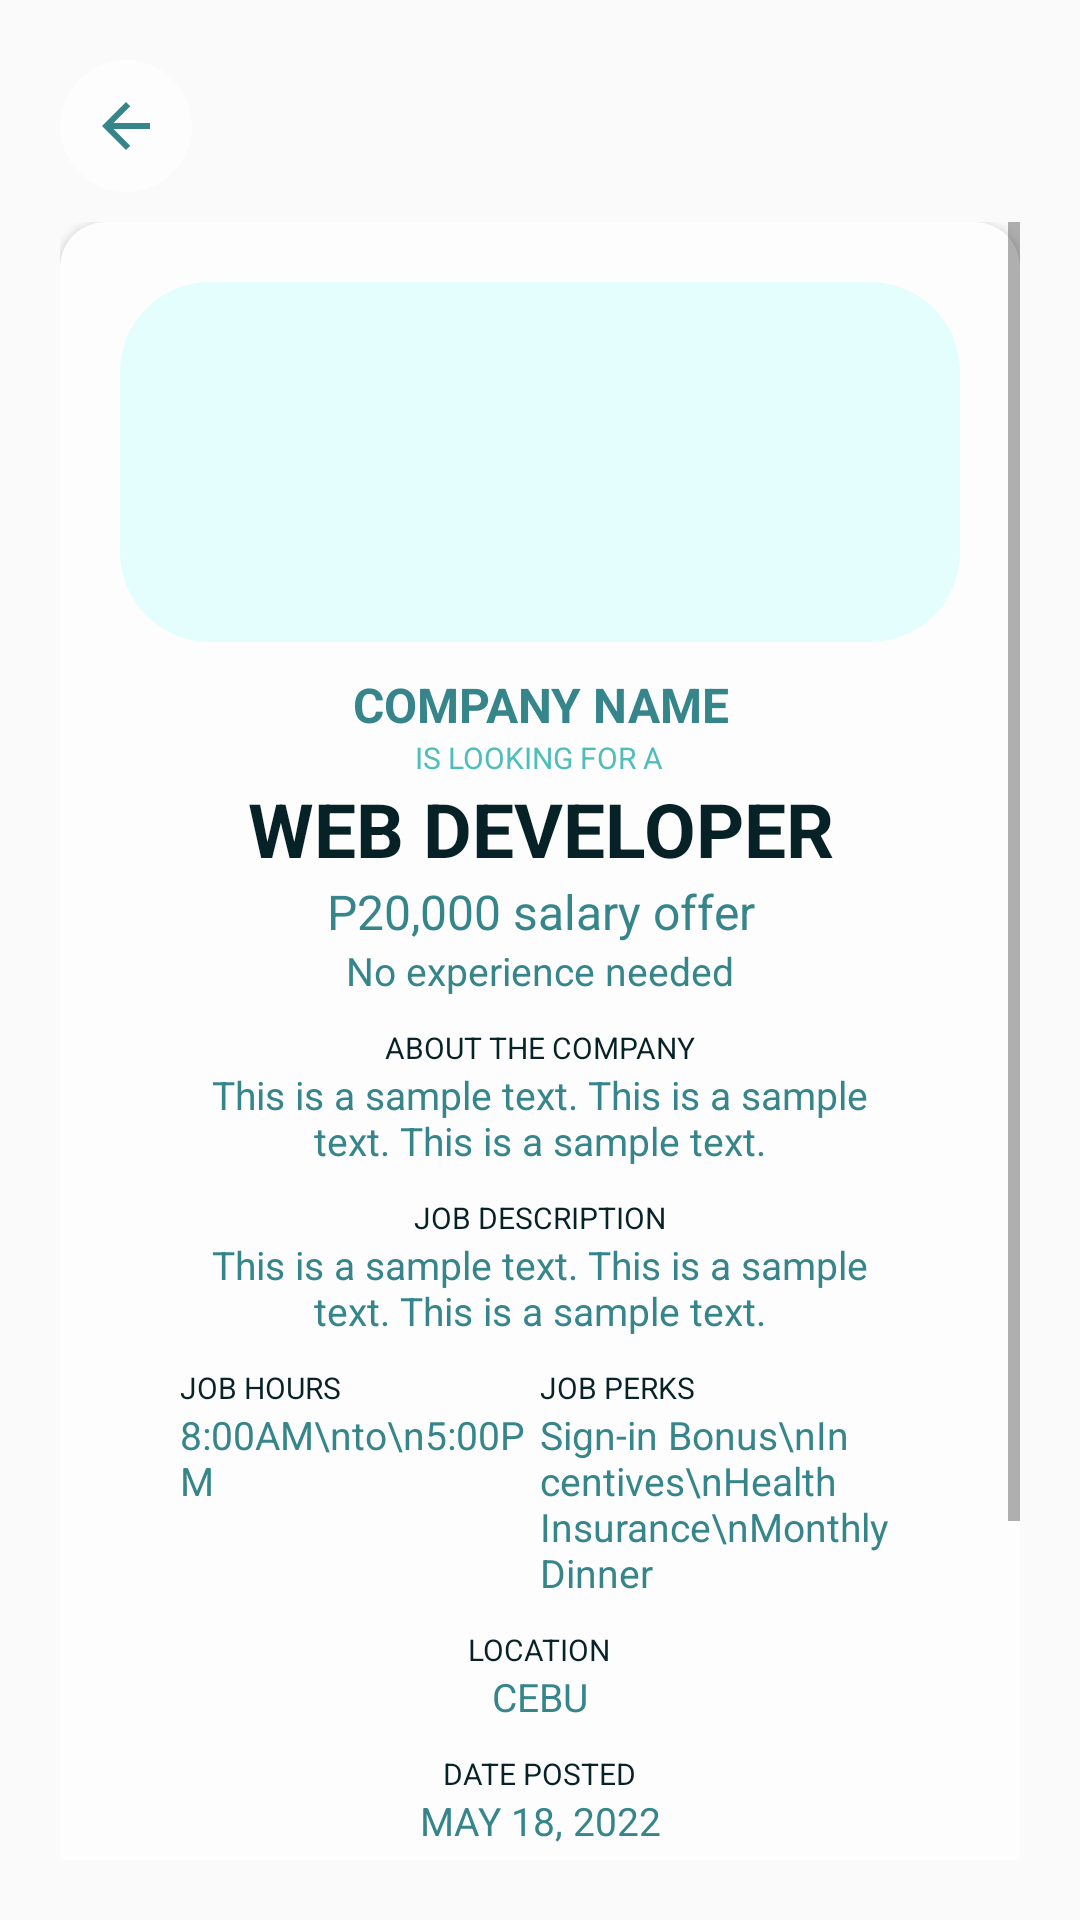

Screen size 1080 × 1920. Icon name, then its center in pixels as (x,y):
back arrow: (126,126)
